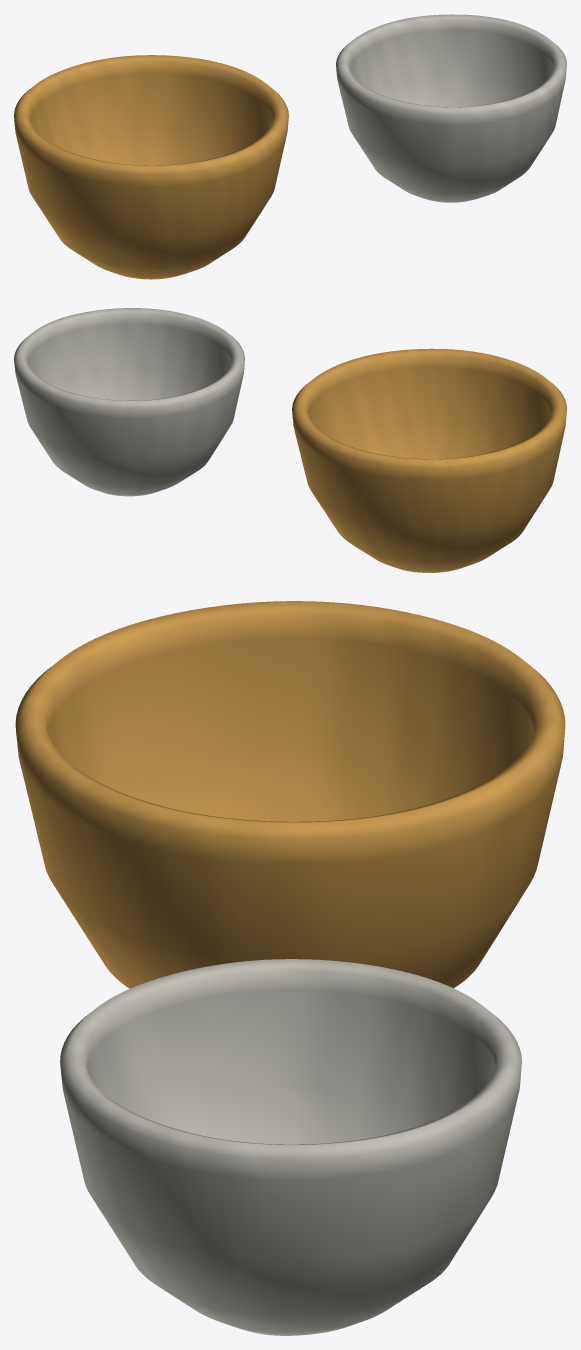
The model's file is return-vessels.glb.
3 views of the same model, one above another, from view 1: azimuth 30°, elevation 25°; view 2: azimuth 150°, elevation 25°; view 3: azimuth 270°, elevation 25° (orthographic). The views are drawn at different scales.
Parts seen in each view (by area): view 1: return-vessels-return-comparison-gold, return-vessels-return-comparison-silver; view 2: return-vessels-return-comparison-gold, return-vessels-return-comparison-silver; view 3: return-vessels-return-comparison-gold, return-vessels-return-comparison-silver.
Part boxes in pixels (x1,y1,x2,y2): return-vessels-return-comparison-gold: (14,55,288,279); return-vessels-return-comparison-silver: (336,14,566,202); return-vessels-return-comparison-gold: (292,348,566,572); return-vessels-return-comparison-silver: (14,308,244,496); return-vessels-return-comparison-gold: (15,601,565,988); return-vessels-return-comparison-silver: (60,959,521,1335).
Size of the model in its own units: 1.06 by 0.286 by 0.484.
